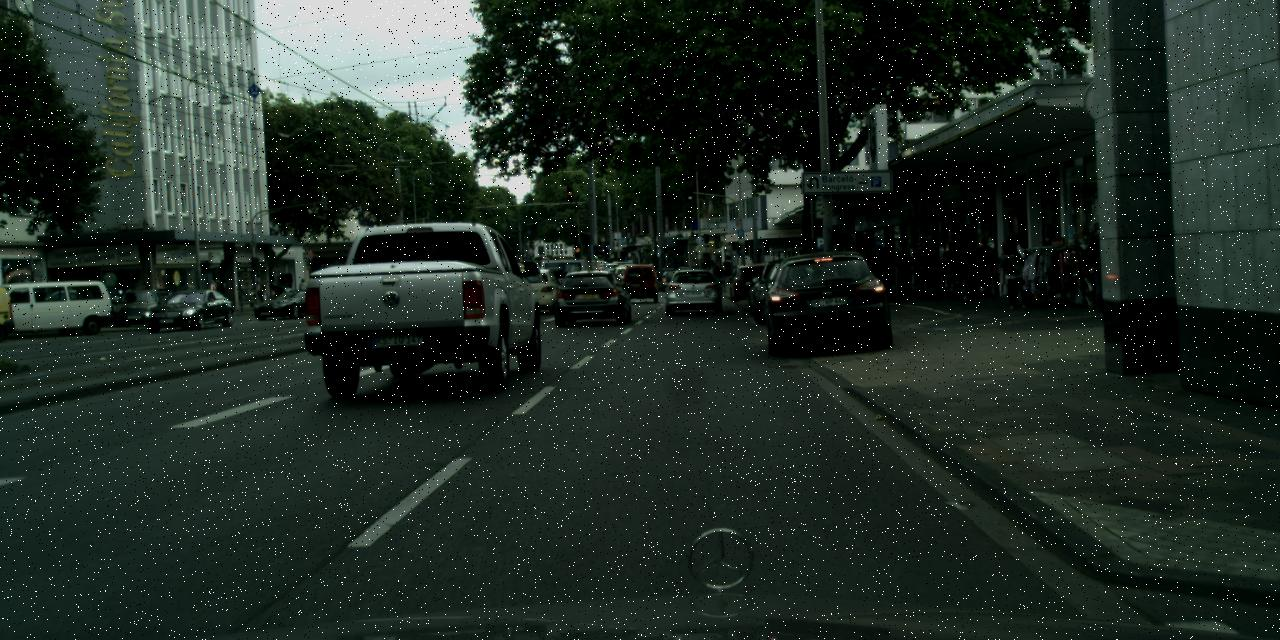ped: (1085, 220, 1124, 316), (1001, 231, 1031, 307), (955, 235, 981, 298), (913, 239, 935, 295), (892, 242, 914, 297), (974, 238, 996, 292), (941, 242, 960, 291), (868, 244, 887, 290), (878, 247, 894, 290), (859, 253, 874, 288), (139, 281, 153, 315), (252, 277, 264, 304), (298, 278, 308, 304)
